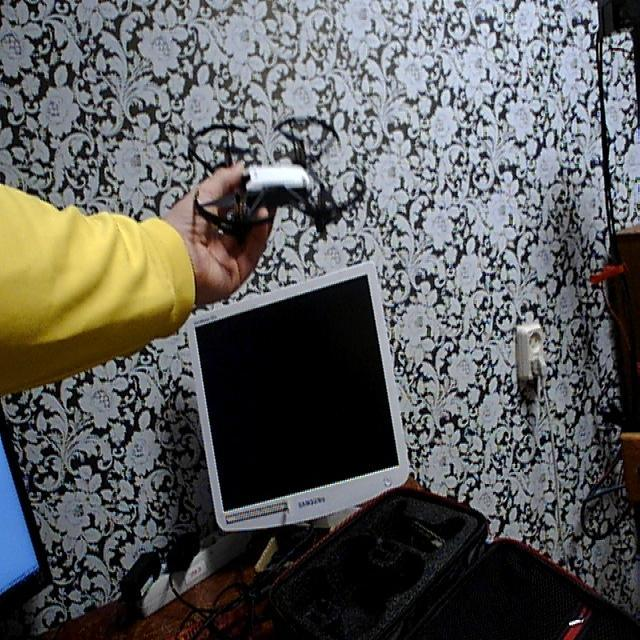drones: (182, 106, 379, 252)
